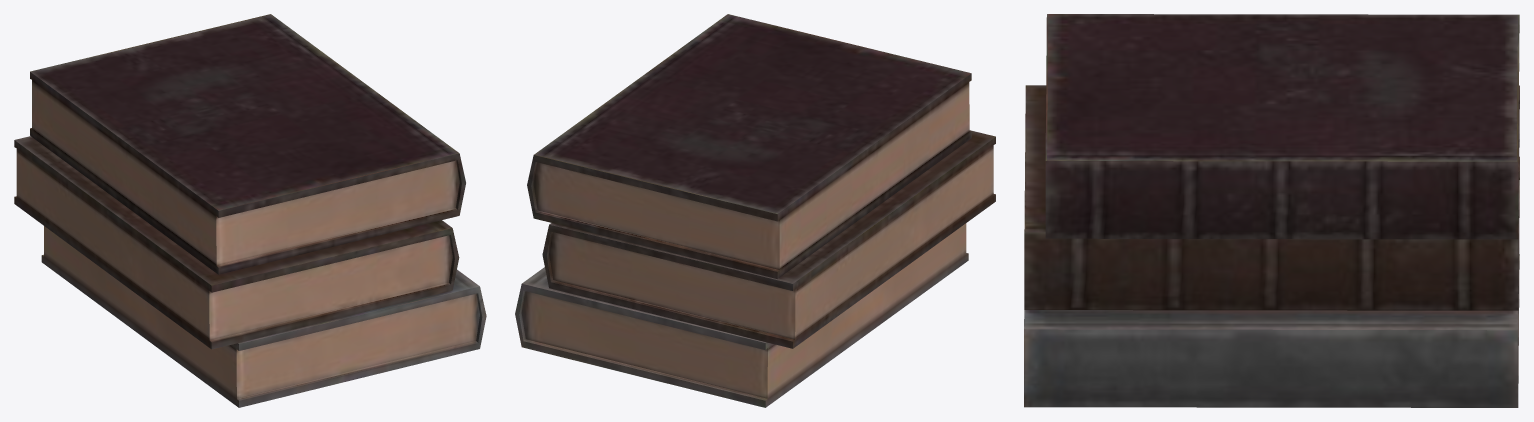
File: book-pile-c.glb
3 renders of one model, left to right at view 1: azimuth 30°, elevation 25°; view 2: azimuth 150°, elevation 25°; view 3: azimuth 270°, elevation 25°, orthographic. The views are drawn at different scales.
Parts seen in each view (by area): view 1: book-pile-c; view 2: book-pile-c; view 3: book-pile-c.
Boxes of the visible parts, box(x1,y1,x2,y2) form: book-pile-c: box(14, 14, 486, 407); book-pile-c: box(515, 14, 995, 407); book-pile-c: box(1024, 14, 1519, 407).
Bounding box in the file's own units: 0.1848 × 0.1241 × 0.2315.
1 material, 1 textured.
